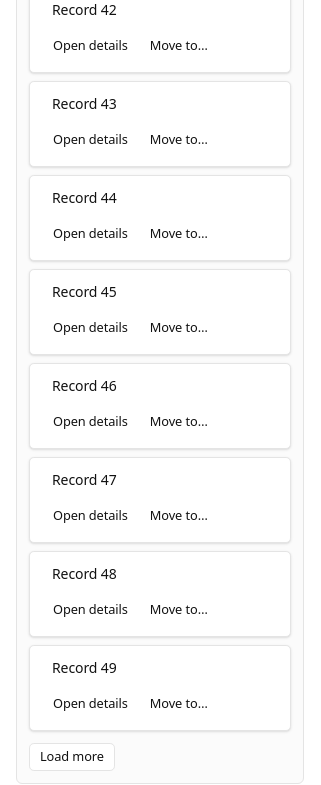
Test: paginates only the requested lane with SQL counts and retains empty lanes
(page scrolled)
Click the button "Load more": [72, 757] box [29,743,115,771]
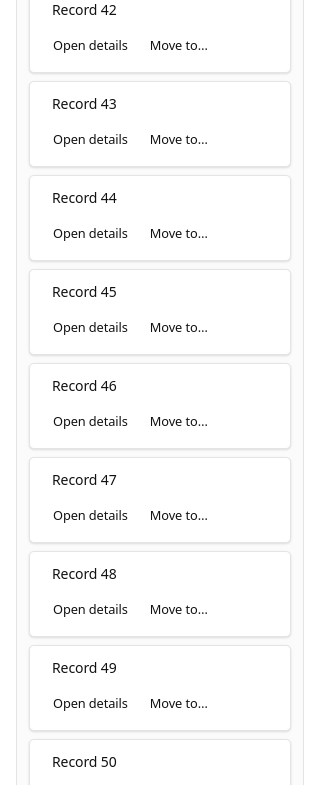
Now the button "Load more" is gone
